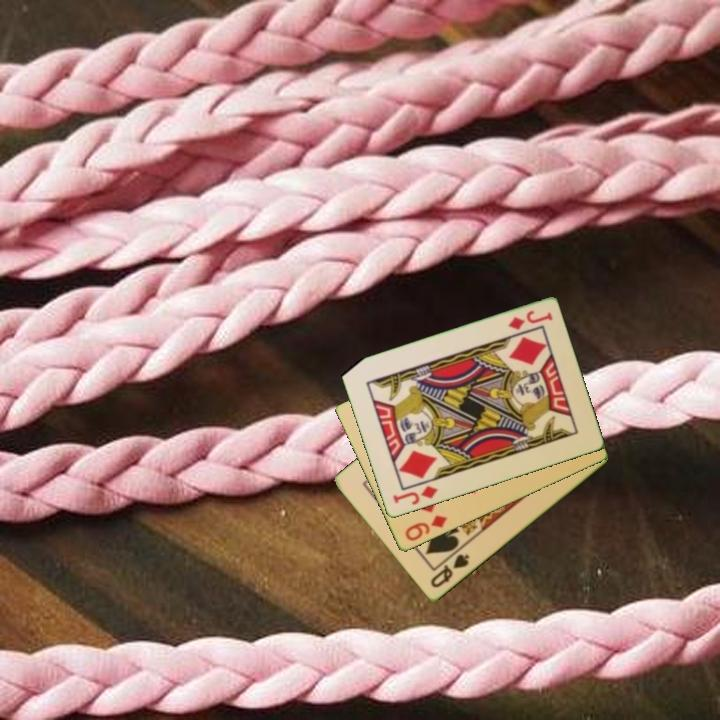9d: (401, 511, 450, 544)
Jd: (389, 482, 441, 508), (505, 307, 555, 333)
Qs: (427, 551, 472, 591)
